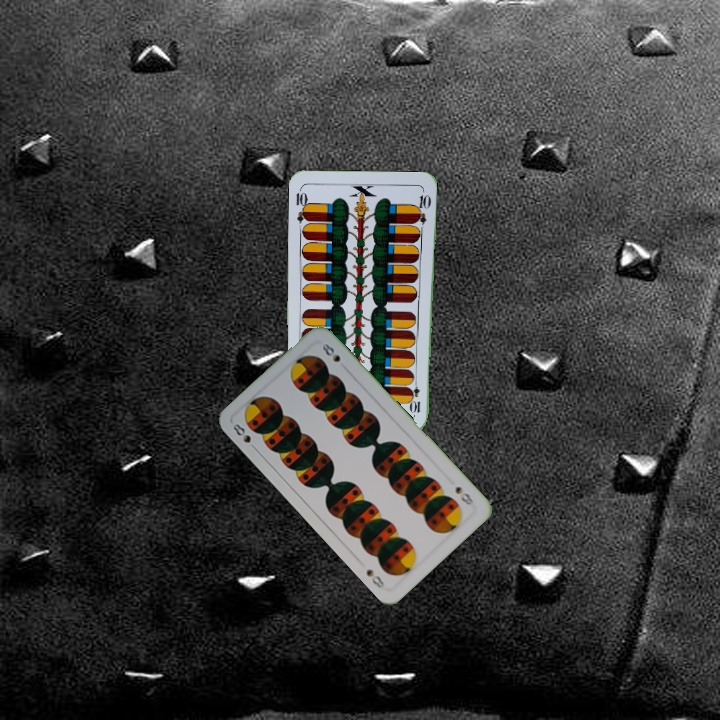E10: (292, 184, 311, 225), (409, 375, 423, 415)
S8: (229, 419, 260, 453), (451, 482, 478, 508)
